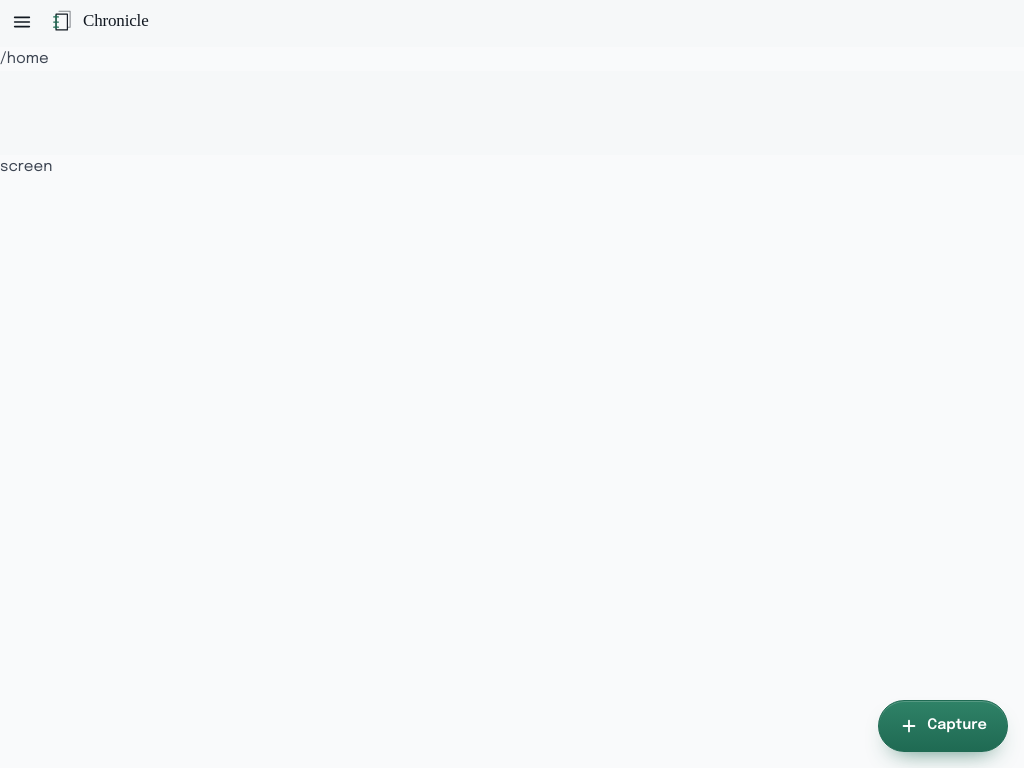
Scenario: mobile drawer › navigates to Support and closes afterwards
Click the button with test id "nav-menu-button" at (22, 22), box [0,0,44,44]
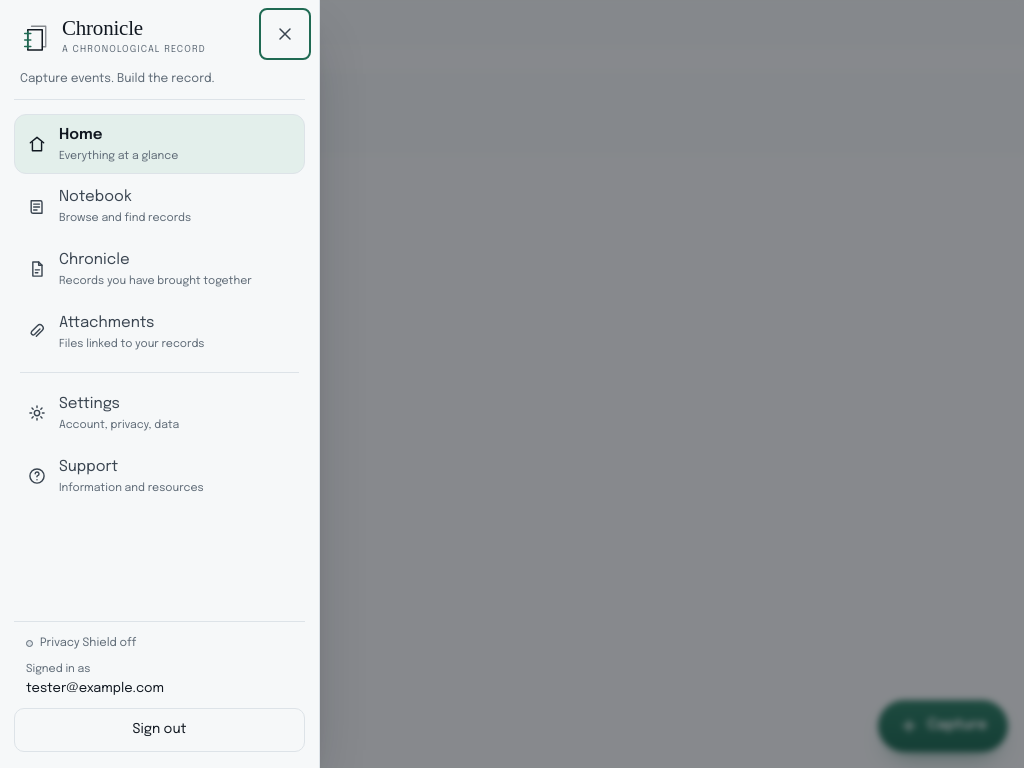
Check: the dialog with test id "nav-drawer" is shown, box [0,0,320,767]
Click the button "Support Information and resources" at (89, 467), box [14,446,305,506]
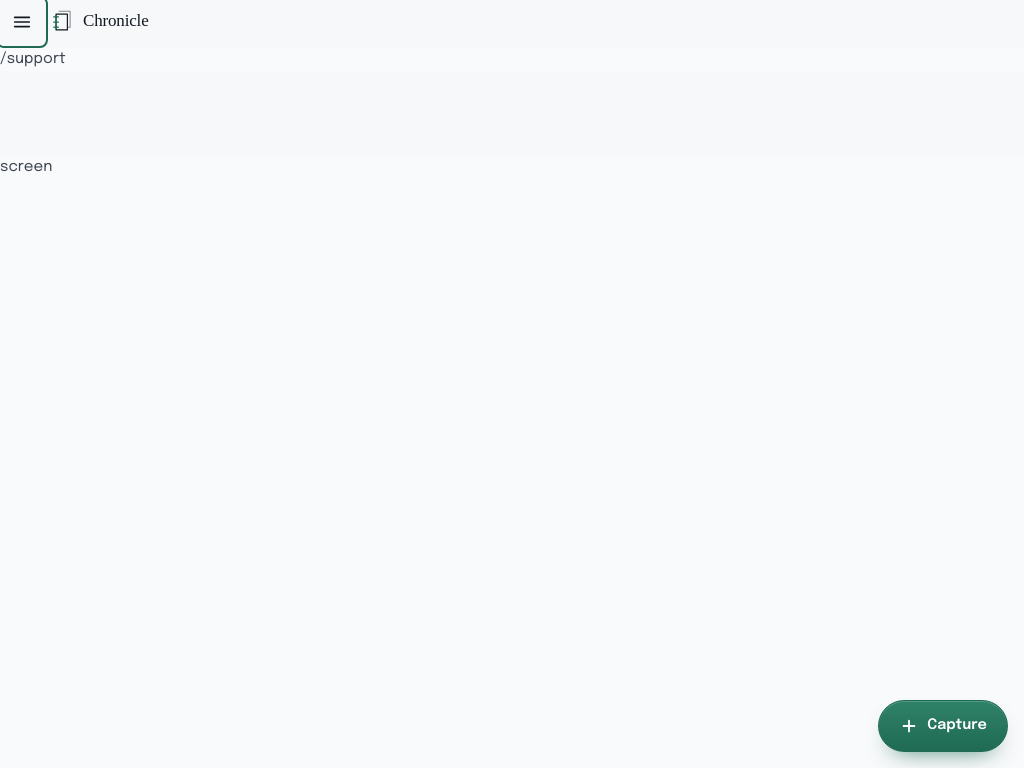
Check: the text with test id "path" reads "/support", box [0,51,66,67]
Check: the dialog with test id "nav-drawer" is gone
